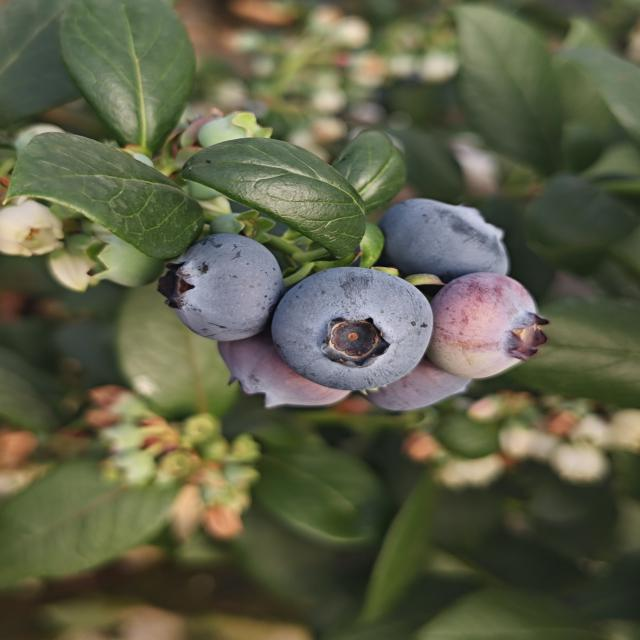ripe: (264, 263, 423, 392), (367, 191, 525, 286), (162, 232, 286, 342), (354, 350, 486, 415)
